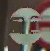No overtake: (2, 2, 45, 46)
